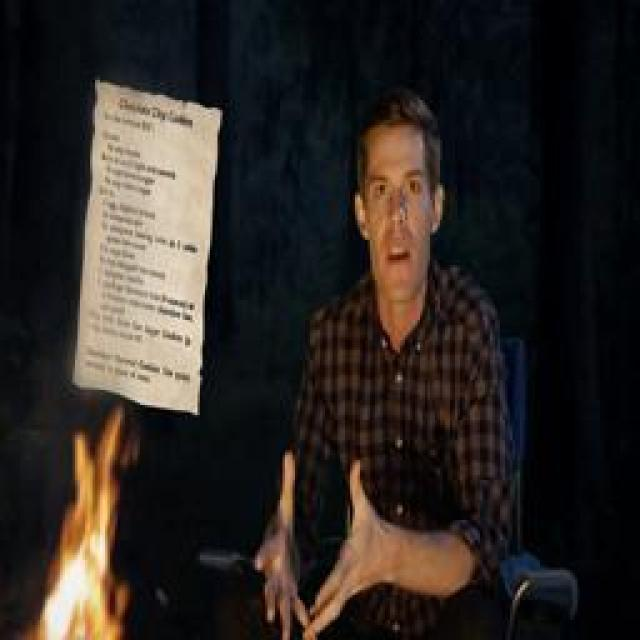Fire: (35, 407, 140, 640)
